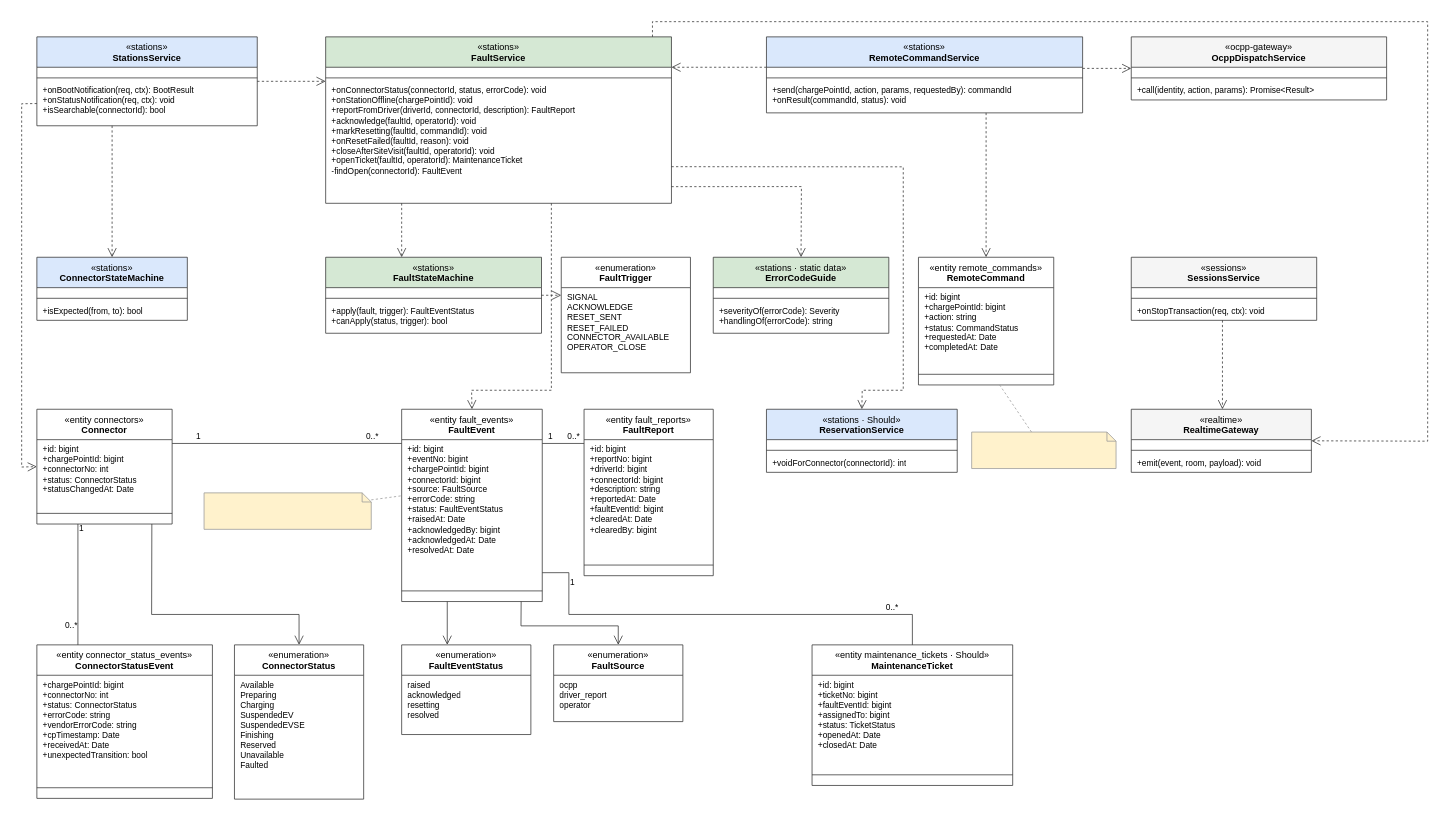
This 1450x813 diagram has some shape labels left out. The shapes that lost their labels are listed below. From the top down, each one's centre as x and y in pixels, then its label:
(x=1043, y=450): remote_commands is not in the schema yet (open question 7).
(x=287, y=510): A connector has at most one open FaultEvent (status ≠ resolved).
